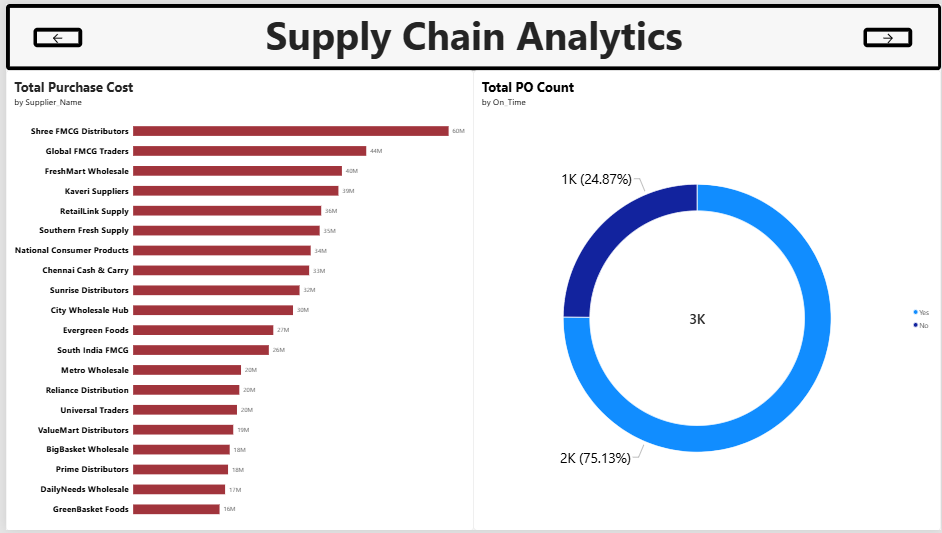

The page's visual inventory and layout, read from the dashboard file:
{"tool":"powerbi","page":{"name":"Page 4","canvas":[1920,1080],"ordinal":3},"visuals":[{"type":"textbox","box":[0,0,1920.1,135.7],"z":0},{"type":"barChart","fields":{"Category":["Suppliers.Supplier_Name"],"Y":["Suppliers.Total Purchase Cost"]},"box":[0,135.7,959.1,944.6],"z":1},{"type":"donutChart","fields":{"Category":["Purchases.On_Time"],"Y":["Purchases.Total PO Count"]},"box":[959,136,961,944],"z":2},{"type":"actionButton","box":[56.1,48.1,100,40],"z":3},{"type":"actionButton","box":[1760,48.1,100.2,40.1],"z":4}]}

Visuals, with their boxes in screenshot pixels (x1, y1, x2, y2), scaled from the page's 1920x1080 canvas onto the 942x533 screenshot:
textbox: Rect(0, 0, 941, 67)
barChart - Suppliers.Supplier_Name x Suppliers.Total Purchase Cost: Rect(0, 67, 471, 532)
donutChart - Purchases.On_Time x Purchases.Total PO Count: Rect(471, 67, 941, 532)
actionButton: Rect(28, 24, 77, 43)
actionButton: Rect(864, 24, 913, 44)
